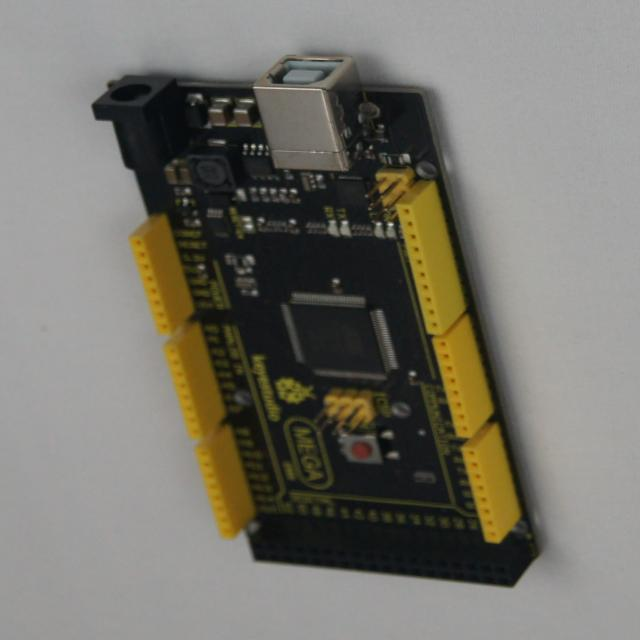Arduino Mega 2560 -Yellow-: (93, 57, 538, 587)
